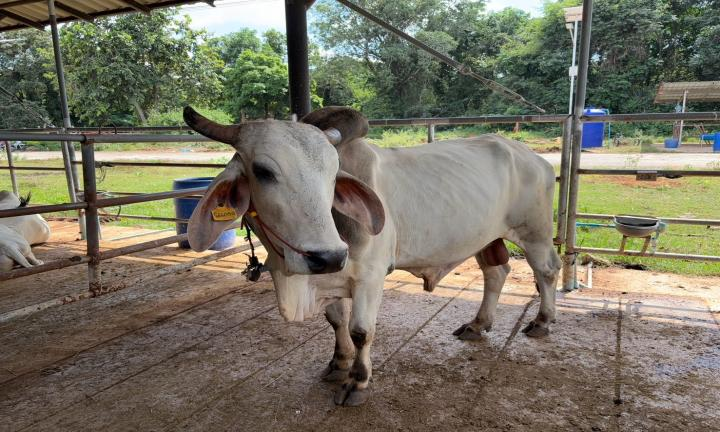Brahman: (183, 106, 561, 405)
